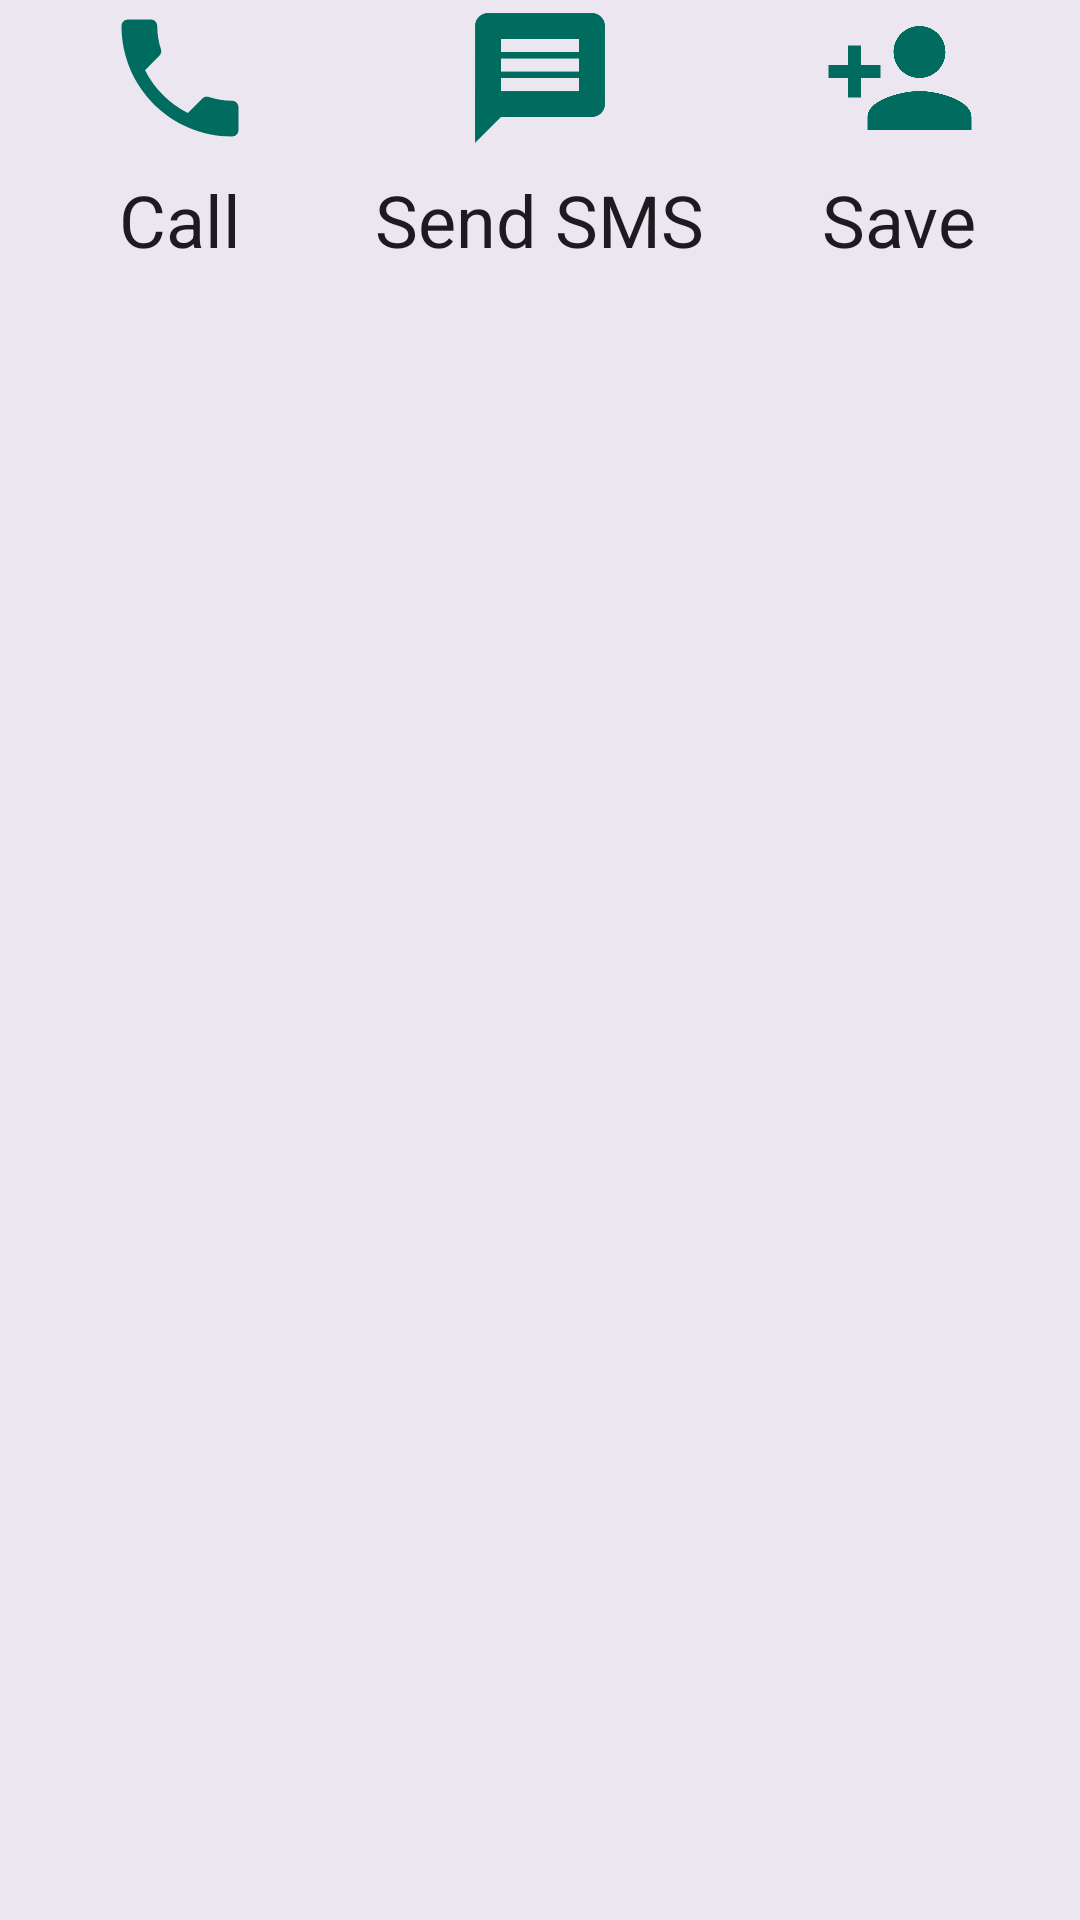

Icons on this 1080 x 1920 Android screen, each with the point to tap as (x,y):
Create new Contact: (900,78)
